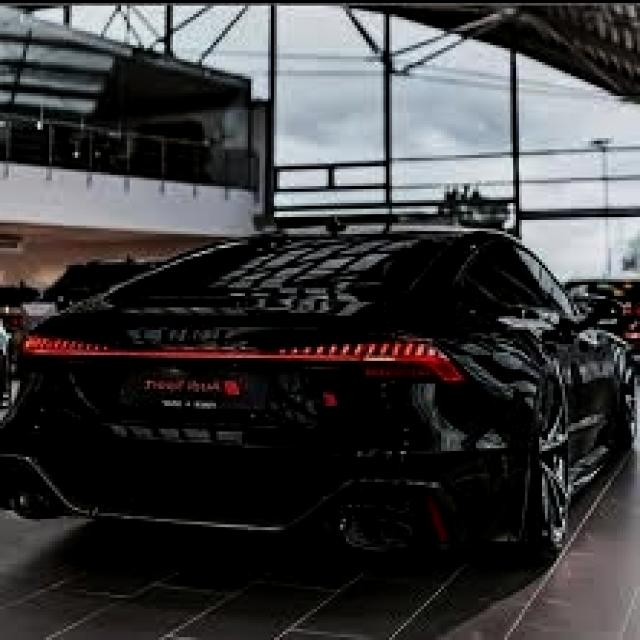black: (0, 230, 626, 558)
